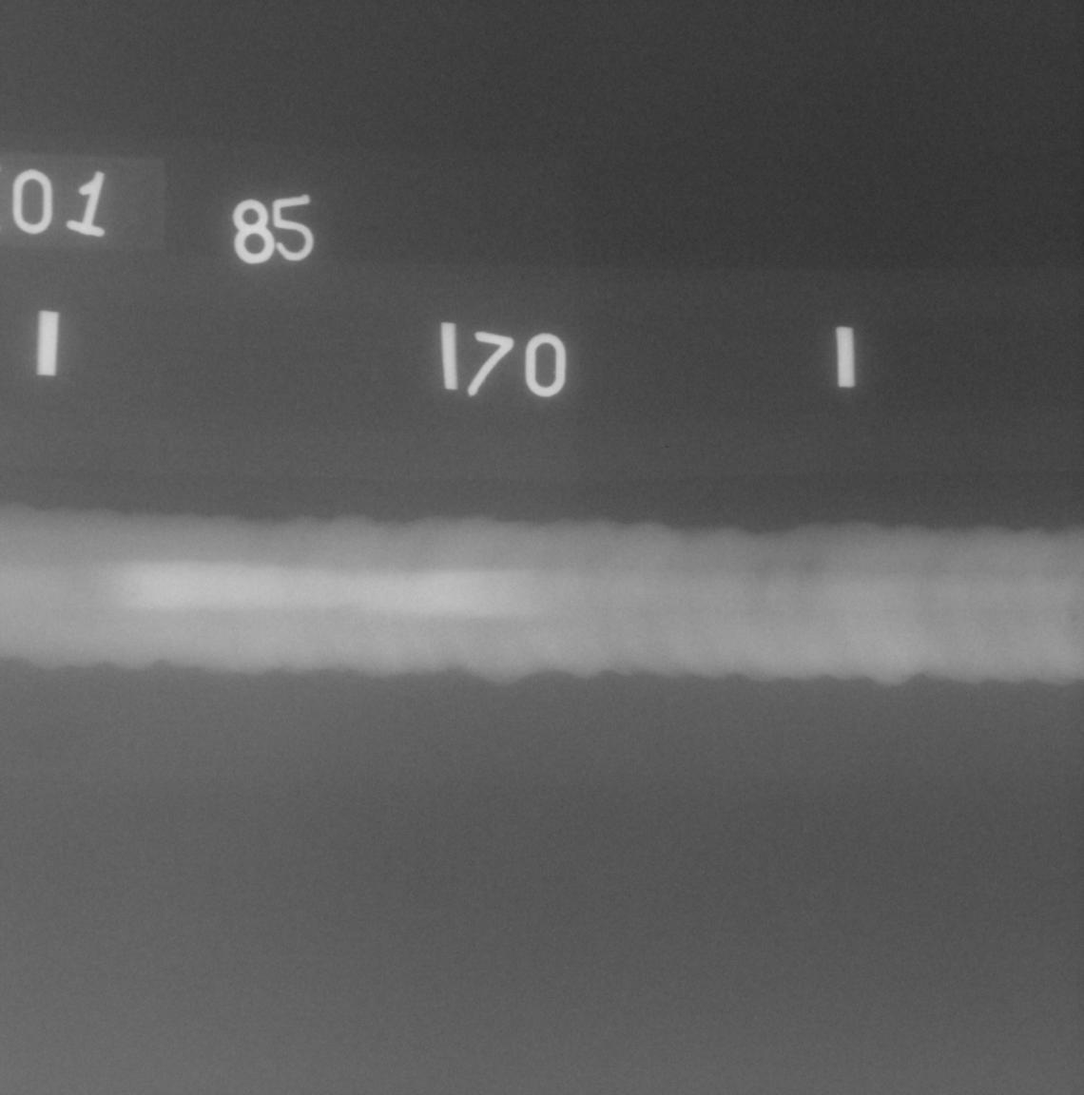Pore/Porosity: (1070, 613, 1079, 623)
